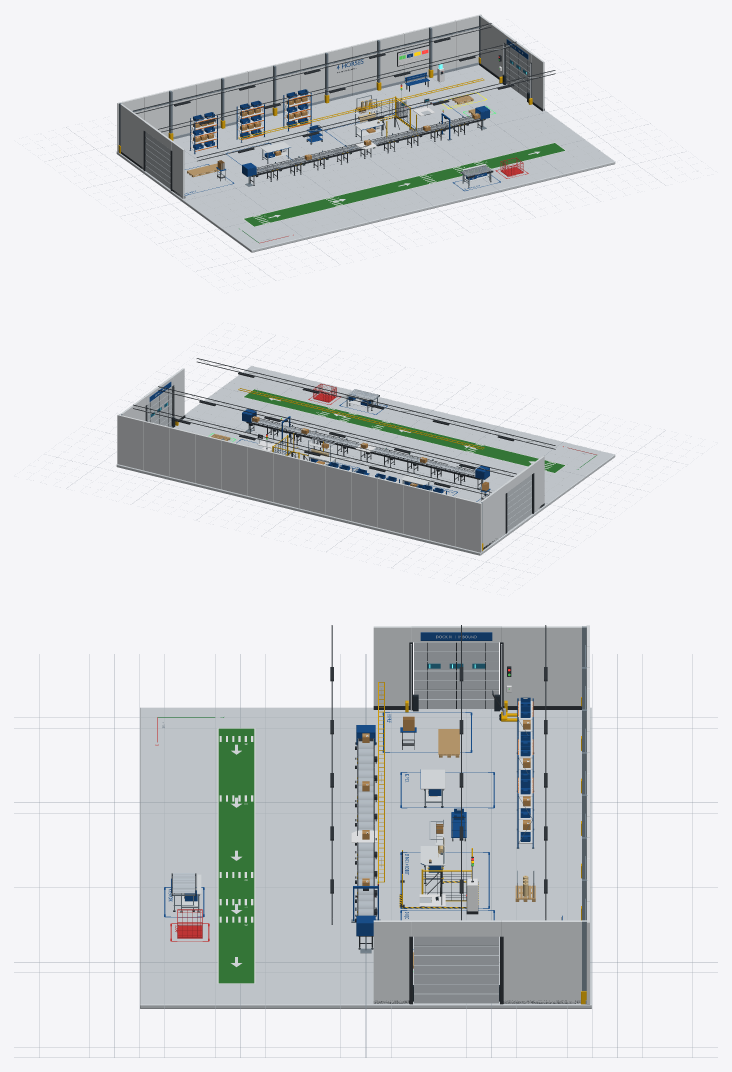
Rendered from warehouse_environment.glb.
3 views of the same model, one above another, from view 1: azimuth 30°, elevation 25°; view 2: azimuth 150°, elevation 25°; view 3: azimuth 270°, elevation 25° (orthographic). The views are drawn at different scales.
Parts seen in each view (by area): view 1: Raised concrete slab, ENV_WALLS_AND_DOCKS__Porcelain_wall_panels, ENV_WALLS_AND_DOCKS__FlexSim_/_Cutaway_wall, ENV_OVERHEAD__FlexSim_/_Graphite_steel, WALKWAY_GREEN_5S, ENV_WALLS_AND_DOCKS__Satin_zinc_steel, ENV_OVERHEAD__FlexSim_/_Brushed_aluminium, ENV_FLOOR_AND_GRID__Paper_labels, ENV_WALLS_AND_DOCKS__Plinth_edge, ENV_OVERHEAD__FlexSim_/_Signal_yellow, ENV_FLOOR_AND_GRID__FlexSim_/_CAD_grid_major, ENV_WALLS_AND_DOCKS__FlexSim_/_Graphite_steel (+4 smaller); view 2: Raised concrete slab, ENV_WALLS_AND_DOCKS__Porcelain_wall_panels, ENV_OVERHEAD__FlexSim_/_Graphite_steel, WALKWAY_GREEN_5S, ENV_WALLS_AND_DOCKS__FlexSim_/_Cutaway_wall, ENV_OVERHEAD__FlexSim_/_Brushed_aluminium, ENV_FLOOR_AND_GRID__Paper_labels, ENV_OVERHEAD__FlexSim_/_Signal_yellow, ENV_FLOOR_AND_GRID__FlexSim_/_CAD_grid_major; view 3: Raised concrete slab, ENV_WALLS_AND_DOCKS__FlexSim_/_Cutaway_wall, ENV_FLOOR_AND_GRID__FlexSim_/_CAD_grid_minor, WALKWAY_GREEN_5S, ENV_FLOOR_AND_GRID__FlexSim_/_CAD_grid_major, ENV_OVERHEAD__FlexSim_/_Graphite_steel, ENV_WALLS_AND_DOCKS__Satin_zinc_steel, ENV_FLOOR_AND_GRID__Paper_labels, ENV_WALLS_AND_DOCKS__FlexSim_/_Graphite_steel, ENV_WALLS_AND_DOCKS__Porcelain_wall_panels, ENV_FLOOR_AND_GRID__Petrol_powder_coat, Dock sectional panel.007 (+16 smaller).
Boxes of the visible parts, left/top/right/bottom form: Raised concrete slab: left=116, top=65, right=615, bottom=252; ENV_WALLS_AND_DOCKS__Porcelain_wall_panels: left=117, top=14, right=481, bottom=152; ENV_WALLS_AND_DOCKS__FlexSim_/_Cutaway_wall: left=120, top=15, right=544, bottom=198; ENV_OVERHEAD__FlexSim_/_Graphite_steel: left=133, top=23, right=555, bottom=161; WALKWAY_GREEN_5S: left=244, top=143, right=564, bottom=226; ENV_WALLS_AND_DOCKS__Satin_zinc_steel: left=119, top=15, right=480, bottom=145; ENV_OVERHEAD__FlexSim_/_Brushed_aluminium: left=135, top=24, right=553, bottom=160; ENV_FLOOR_AND_GRID__Paper_labels: left=243, top=142, right=565, bottom=226; ENV_WALLS_AND_DOCKS__Plinth_edge: left=118, top=62, right=478, bottom=152; ENV_OVERHEAD__FlexSim_/_Signal_yellow: left=238, top=78, right=484, bottom=139; ENV_FLOOR_AND_GRID__FlexSim_/_CAD_grid_major: left=49, top=41, right=682, bottom=280; ENV_WALLS_AND_DOCKS__FlexSim_/_Graphite_steel: left=121, top=43, right=544, bottom=198; Raised concrete slab: left=116, top=366, right=615, bottom=555; ENV_WALLS_AND_DOCKS__Porcelain_wall_panels: left=117, top=414, right=481, bottom=552; ENV_OVERHEAD__FlexSim_/_Graphite_steel: left=133, top=358, right=555, bottom=495; WALKWAY_GREEN_5S: left=244, top=389, right=564, bottom=472; ENV_WALLS_AND_DOCKS__FlexSim_/_Cutaway_wall: left=119, top=368, right=544, bottom=548; ENV_OVERHEAD__FlexSim_/_Brushed_aluminium: left=134, top=359, right=554, bottom=494; ENV_FLOOR_AND_GRID__Paper_labels: left=243, top=389, right=565, bottom=473; ENV_OVERHEAD__FlexSim_/_Signal_yellow: left=238, top=388, right=484, bottom=449; ENV_FLOOR_AND_GRID__FlexSim_/_CAD_grid_major: left=56, top=335, right=675, bottom=583; Raised concrete slab: left=140, top=707, right=591, bottom=1008; ENV_WALLS_AND_DOCKS__FlexSim_/_Cutaway_wall: left=373, top=626, right=588, bottom=1003; ENV_FLOOR_AND_GRID__FlexSim_/_CAD_grid_minor: left=14, top=654, right=717, bottom=1057; WALKWAY_GREEN_5S: left=218, top=728, right=254, bottom=983; ENV_FLOOR_AND_GRID__FlexSim_/_CAD_grid_major: left=14, top=654, right=717, bottom=1057; ENV_OVERHEAD__FlexSim_/_Graphite_steel: left=330, top=625, right=547, bottom=924; ENV_WALLS_AND_DOCKS__Satin_zinc_steel: left=582, top=626, right=587, bottom=991; ENV_FLOOR_AND_GRID__Paper_labels: left=217, top=728, right=255, bottom=983; ENV_WALLS_AND_DOCKS__FlexSim_/_Graphite_steel: left=373, top=642, right=581, bottom=1004; ENV_WALLS_AND_DOCKS__Porcelain_wall_panels: left=586, top=625, right=589, bottom=1004; ENV_FLOOR_AND_GRID__Petrol_powder_coat: left=164, top=712, right=494, bottom=949; Dock sectional panel.007: left=414, top=993, right=498, bottom=1003.
Bounding box in the file's own units: 38.01 × 3.91 × 28.01.
